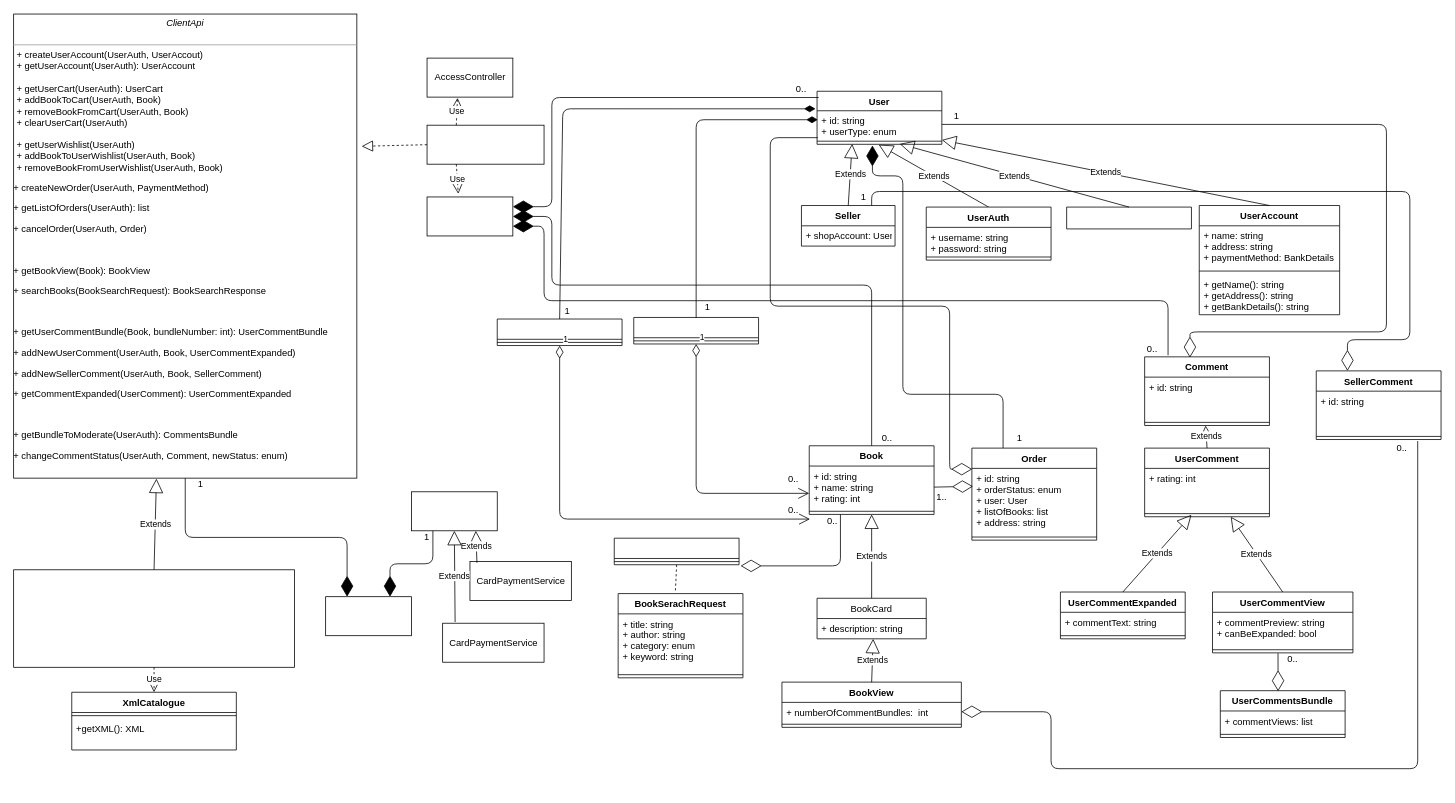
This 1455x803 diagram has some shape labels left out. The centre of each missing label's shape, as x and y in pixels:
"Administrator" belongs at point 1128,217.
"BookSearchResponse" belongs at point 676,551.
"Database" belongs at point 469,216.
"ServiceImplementation" belongs at point 485,144.
"UserCart" belongs at point 696,330.
"UserWishlist" belongs at point 559,332.
"WebApplication" belongs at point 368,616.
"XmlApi + getMiniCatalogue(serviceId, numberOfBooks): XmlCatalogue" belongs at point 153,618.
"«interface» PaymentService" belongs at point 454,511.
